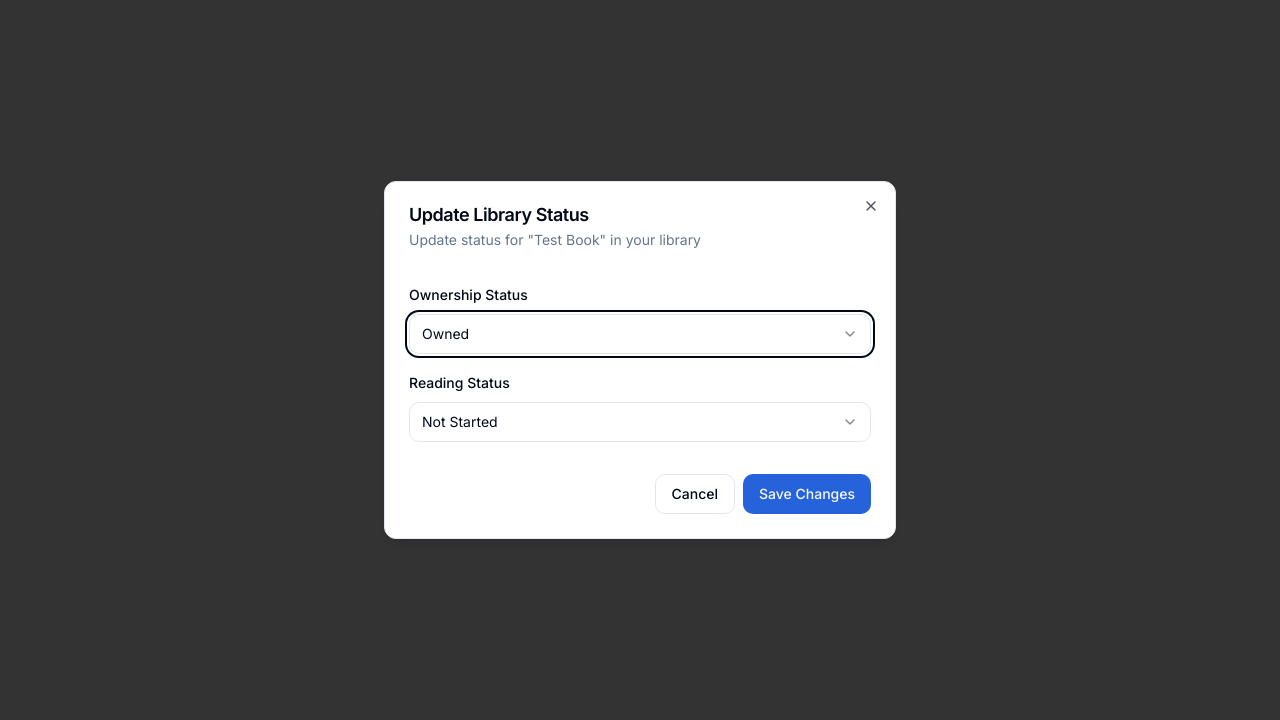
it: EditLibraryDialog › disables form controls during submission
# Submit the form
What coordinates should you click on to do the following:
click the button "Save Changes"
I would click on:
 (807, 494)
Its box is [743,474,871,514].
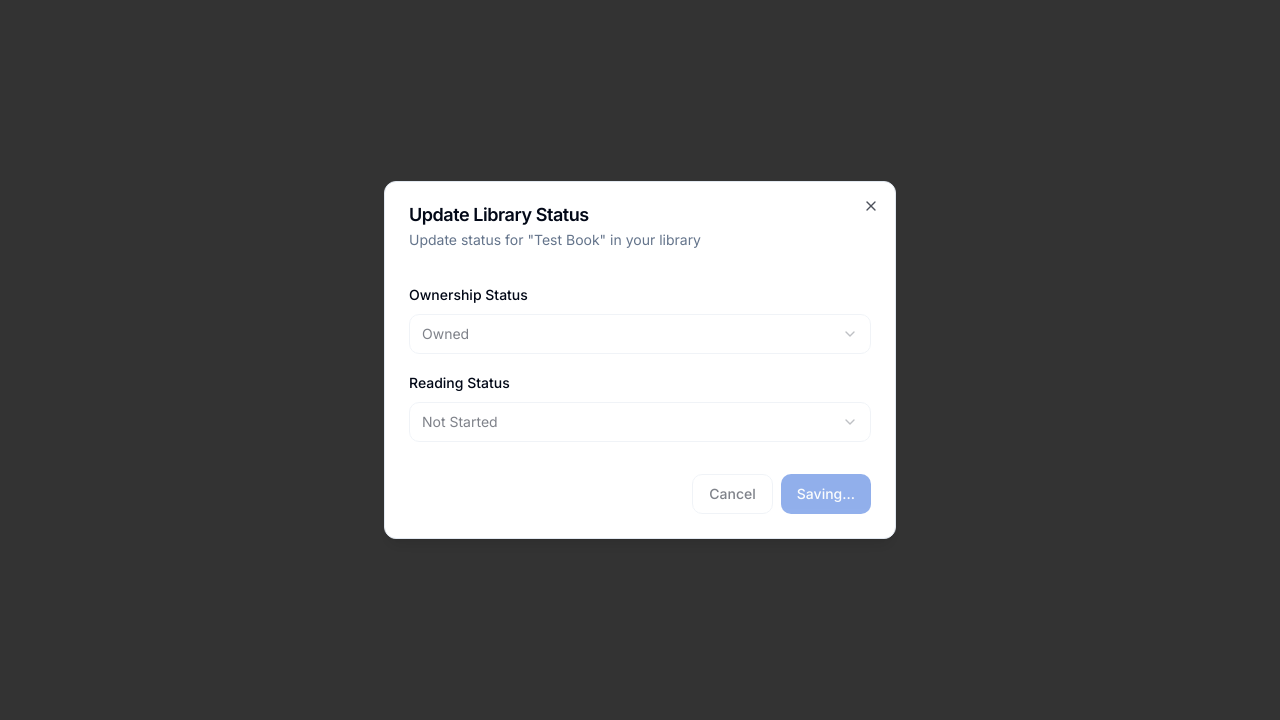
Expected: the button "Save Changes" is disabled, [781,474,871,514]
Expected: the button "Cancel" is disabled, [692,474,773,514]
